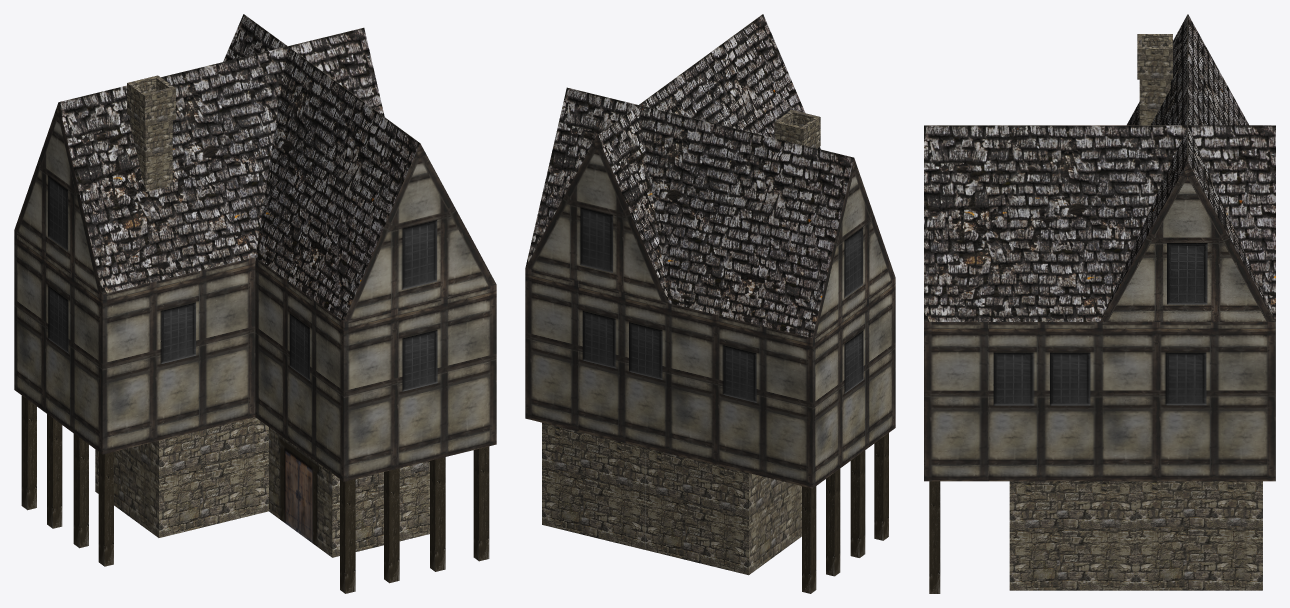
The model's file is House01.FBX.
3 views of the same model, side by side, from view 1: azimuth 30°, elevation 25°; view 2: azimuth 150°, elevation 25°; view 3: azimuth 270°, elevation 25° (orthographic). The views are drawn at different scales.
Visible parts, largest first — view 1: House01; view 2: House01; view 3: House01.
Part boxes in pixels (x1,y1,x2,y2): House01: [14, 14, 496, 593]; House01: [525, 14, 895, 593]; House01: [924, 14, 1275, 593].
Bounding box in the file's own units: 973 × 1353 × 973.
